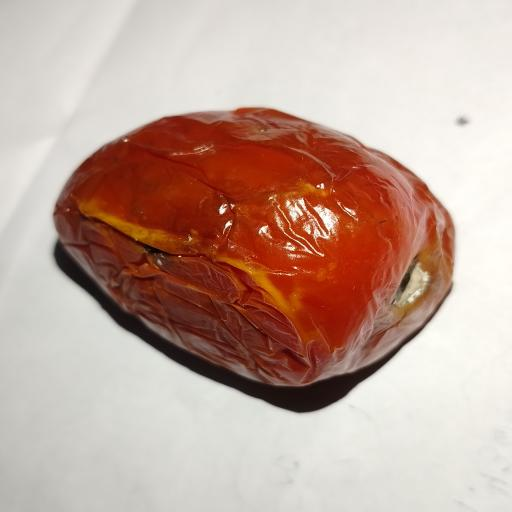spoiled: (55, 108, 453, 386)
